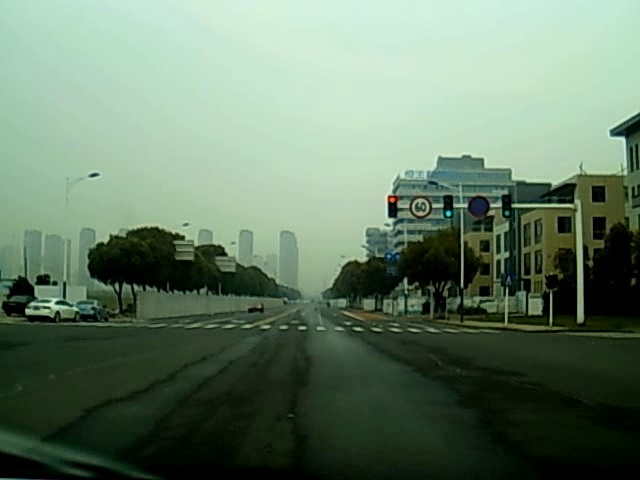Traffic_Light_go: (443, 195, 453, 221), (502, 196, 511, 219)
Traffic_Light_stop: (387, 195, 397, 219)
